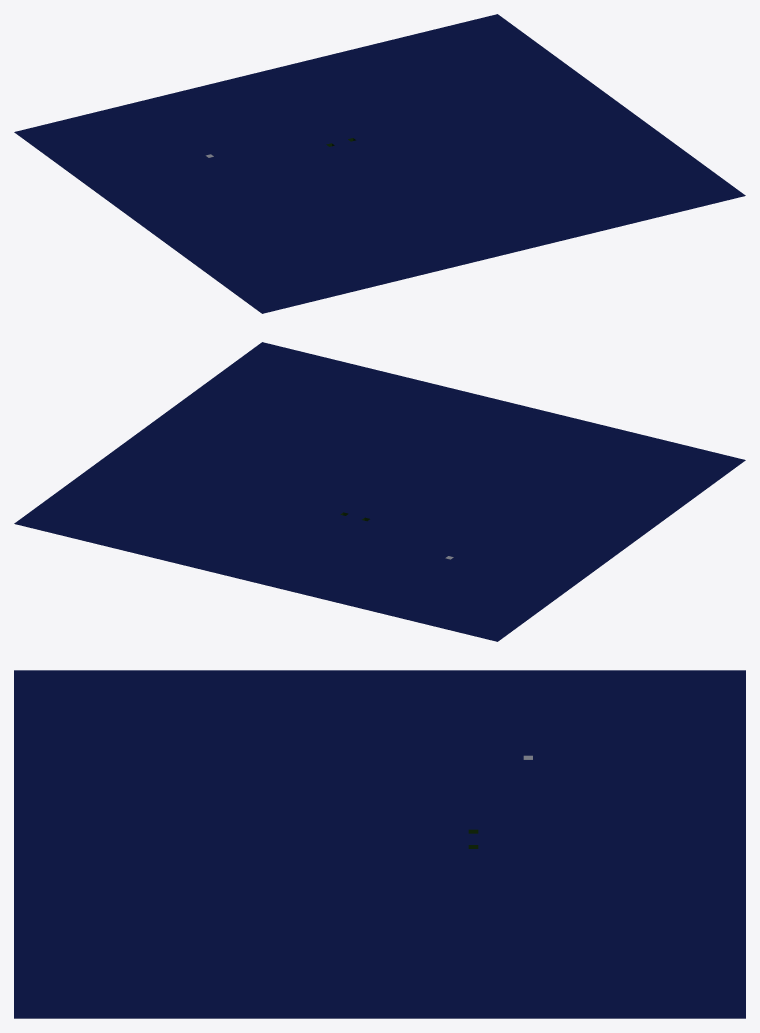
Rendered from water.fbx.
3 renders of one model, top to bottom at view 1: azimuth 30°, elevation 25°; view 2: azimuth 150°, elevation 25°; view 3: azimuth 270°, elevation 25°, orthographic. The views are drawn at different scales.
Parts seen in each view (by area): view 1: water_water1; view 2: water_water1; view 3: water_water1.
Boxes of the visible parts, <box> form: water_water1: <box>14,14,745,313</box>; water_water1: <box>14,342,745,641</box>; water_water1: <box>14,670,745,1018</box>.
Size of the model in its own units: 900 by 21.52 by 800.
